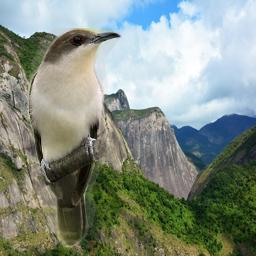Cuckoo: (28, 28, 122, 250)
